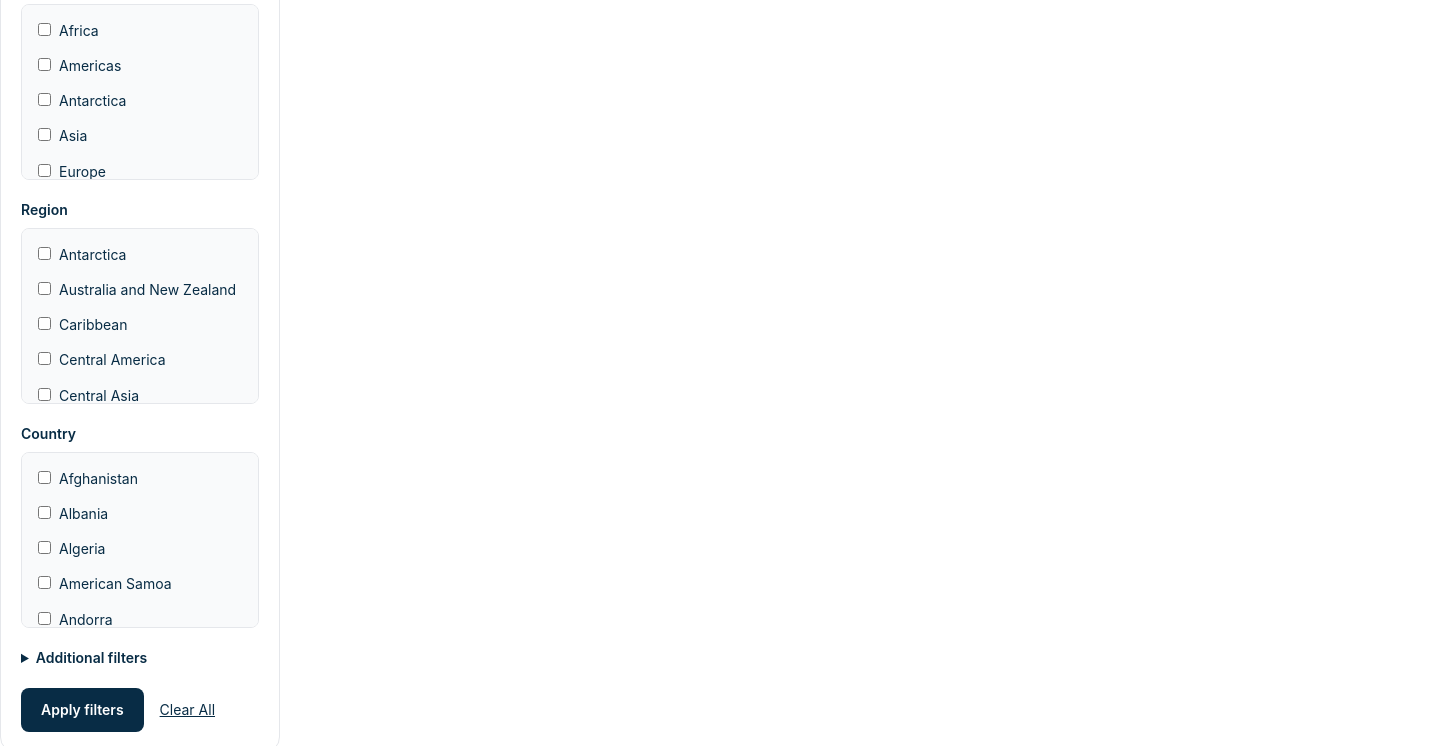
keeps selections pending until Apply filters submits one request with linked geography
(page scrolled)
Click the heading "Additional filters" at (92, 657), box [36,649,147,666]
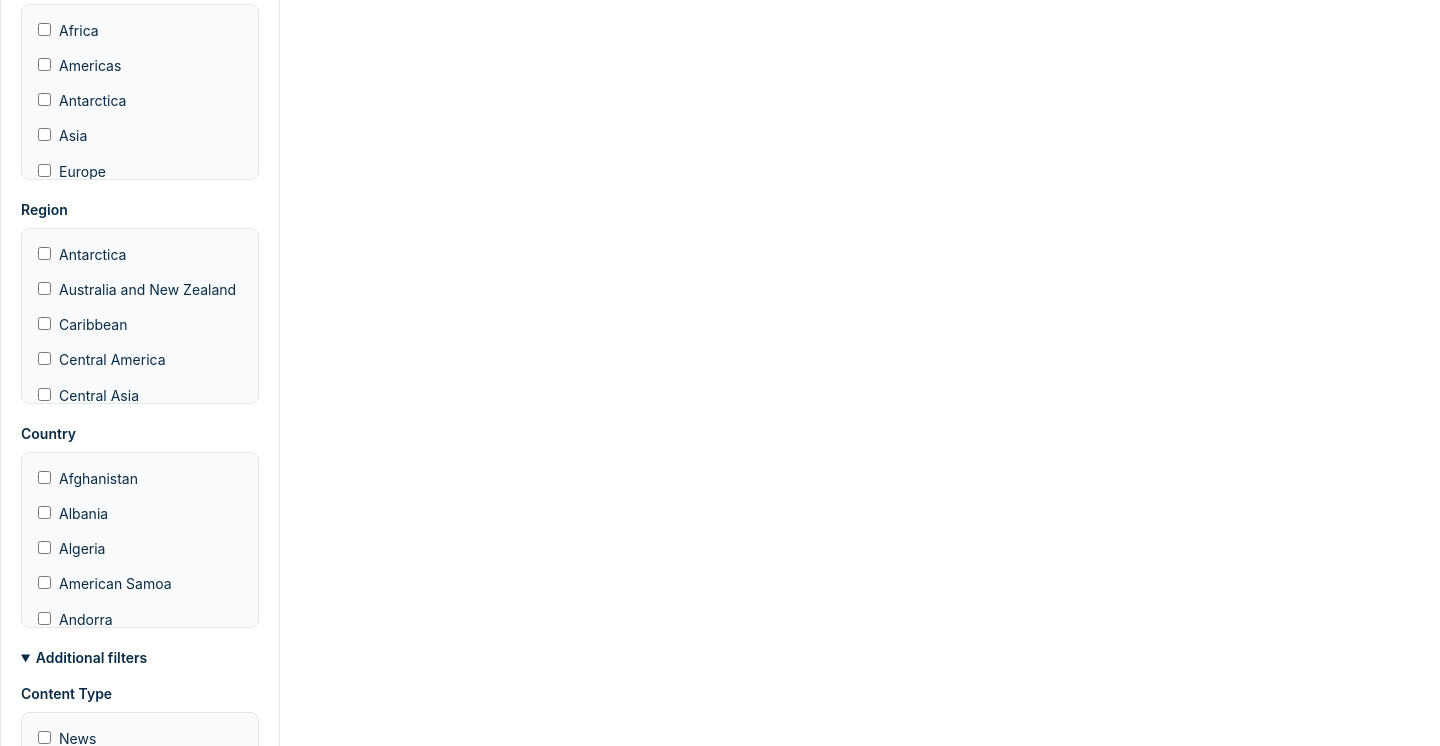
Click the checkbox labelled "News" at (44, 737), box [38,731,51,744]
(page scrolled)
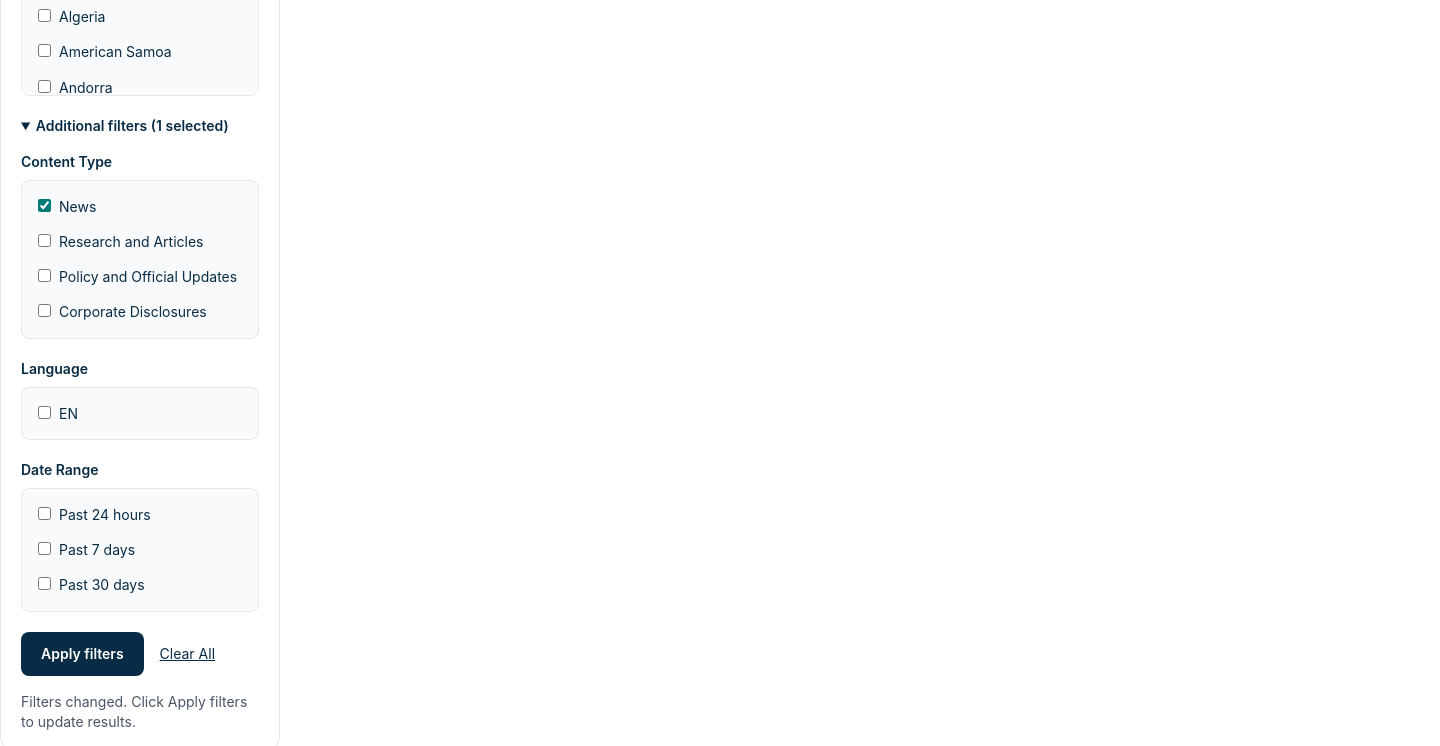
Click the checkbox labelled "EN" at (44, 412), box [38,406,51,419]
(page scrolled)
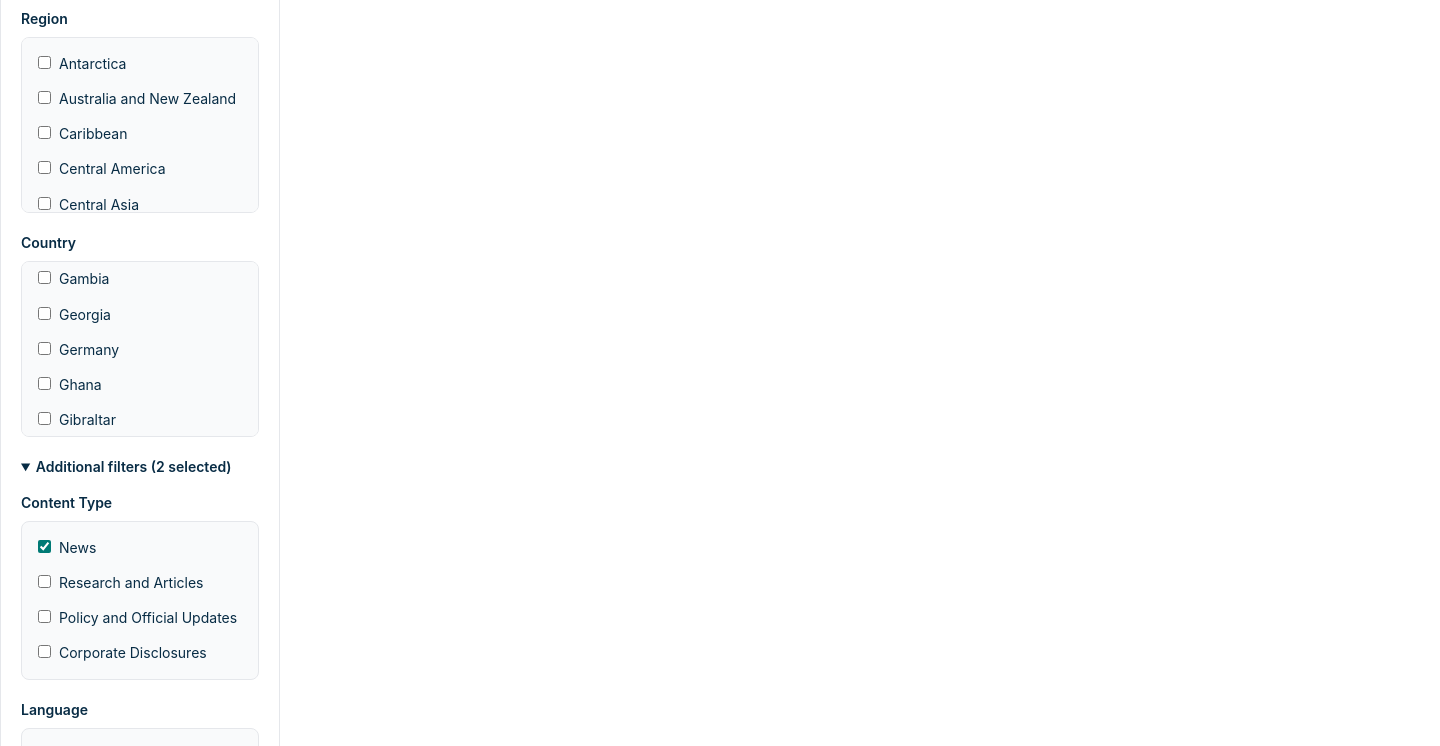
Click the checkbox labelled "Germany" at (44, 348), box [38,342,51,355]
Wait 1000 ms
(page scrolled)
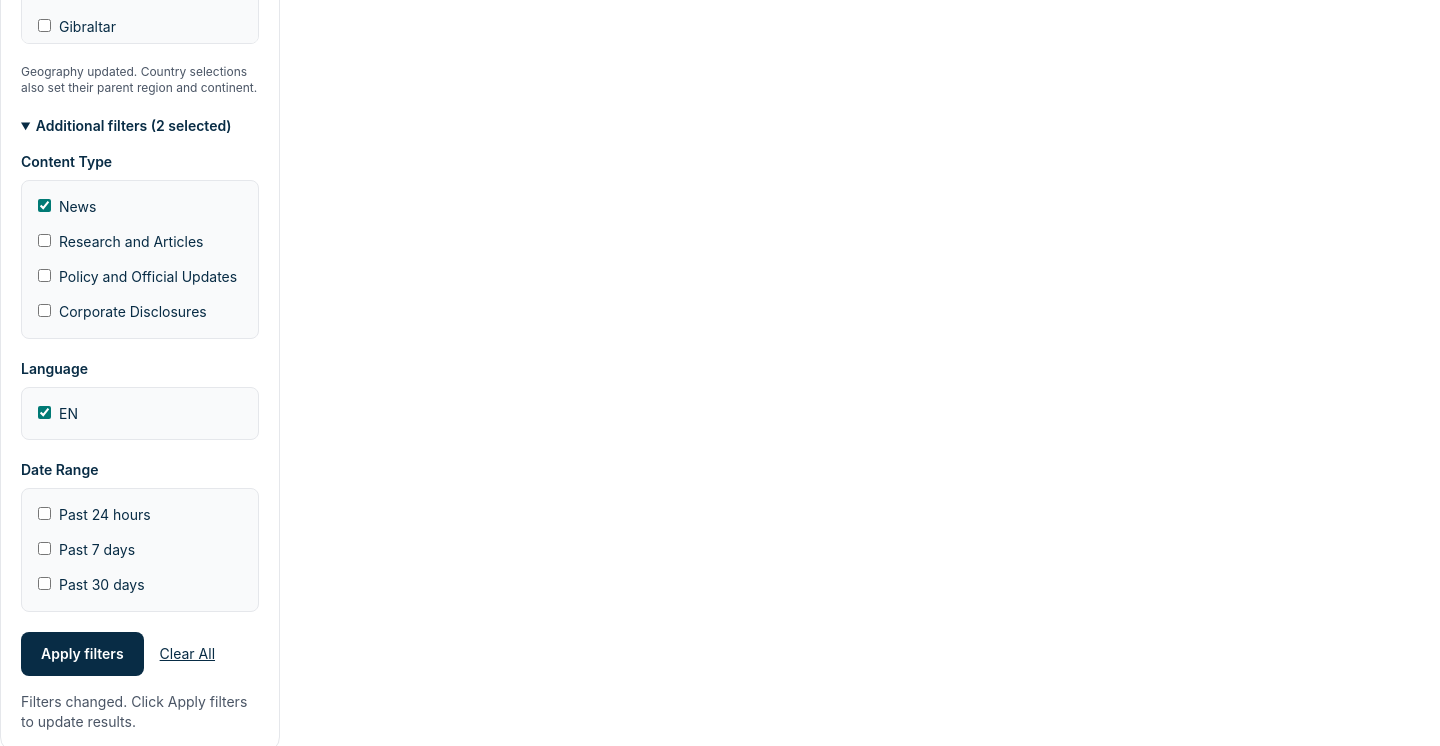
Expected: the text "Filters changed. Click Apply filters to update results." is shown, [21,692,259,732]
Click the button "Apply filters" at (82, 654), box [21,632,144,676]
(page scrolled)
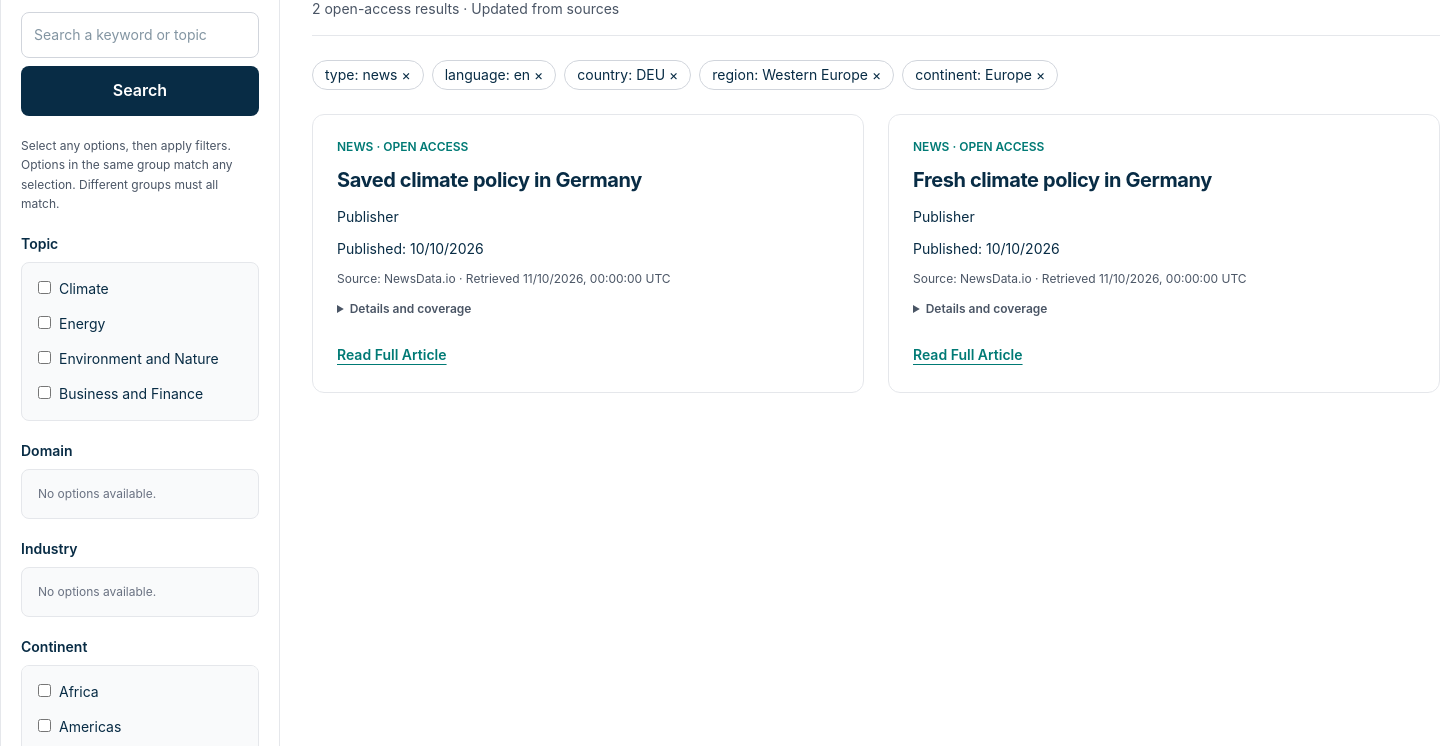
Expected: the heading "Fresh climate policy in Germany" is shown, [913,168,1212,192]
Expected: the text "Filters changed. Click Apply filters to update results." is gone
